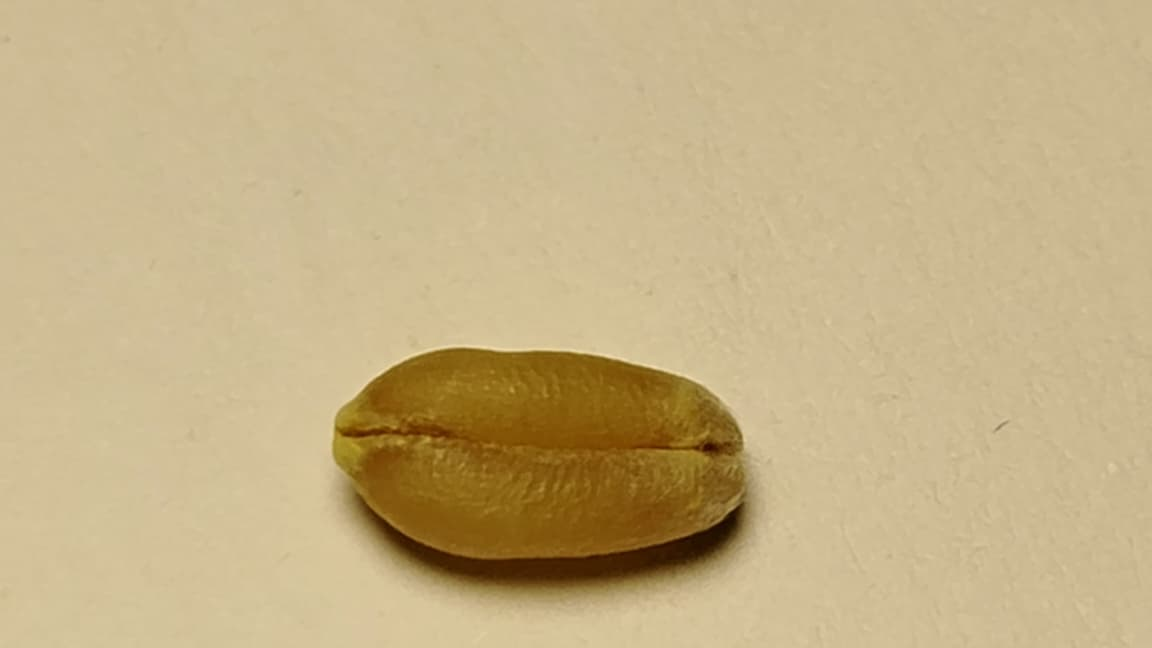healthy: (335, 348, 743, 555)
